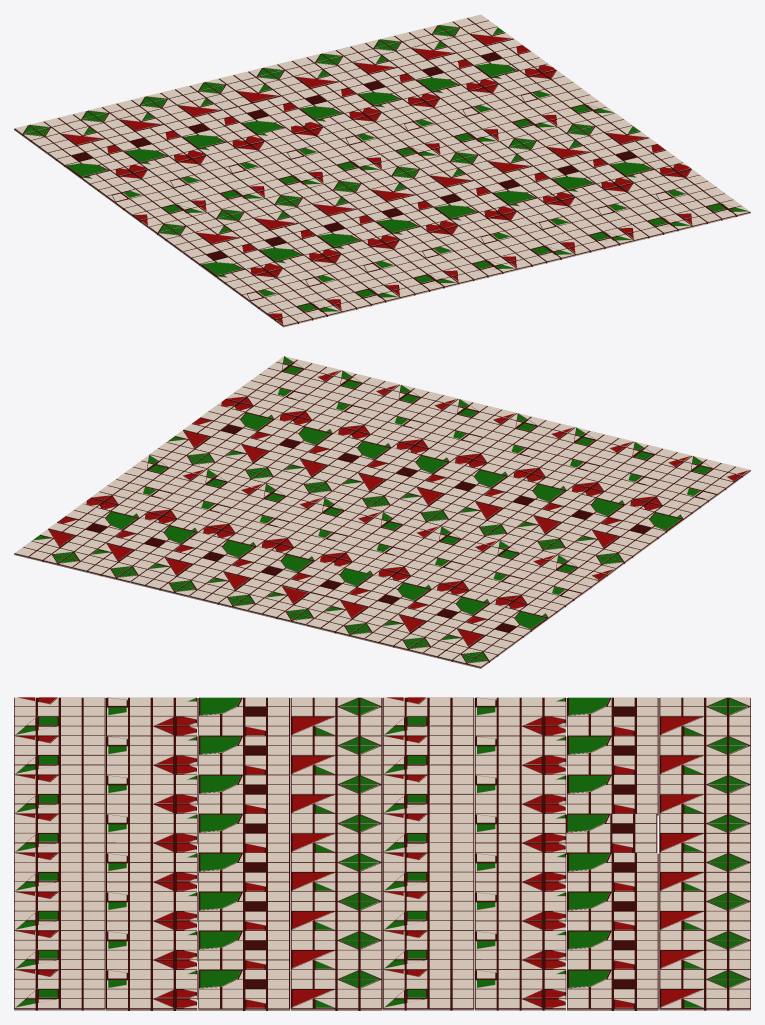
The model's file is floor_1.1.fbx.
3 views of the same model, one above another, from view 1: azimuth 30°, elevation 25°; view 2: azimuth 150°, elevation 25°; view 3: azimuth 270°, elevation 25° (orthographic). The views are drawn at different scales.
Visible parts, largest first — view 1: pCube68; view 2: pCube68; view 3: pCube68.
Boxes of the visible parts, <box> form: pCube68: <box>14,14,750,327</box>; pCube68: <box>14,356,750,668</box>; pCube68: <box>14,697,750,1010</box>.
Bounding box in the file's own units: 47.98 × 0.1827 × 47.97.
Materials: 1 (1 with a texture image).
